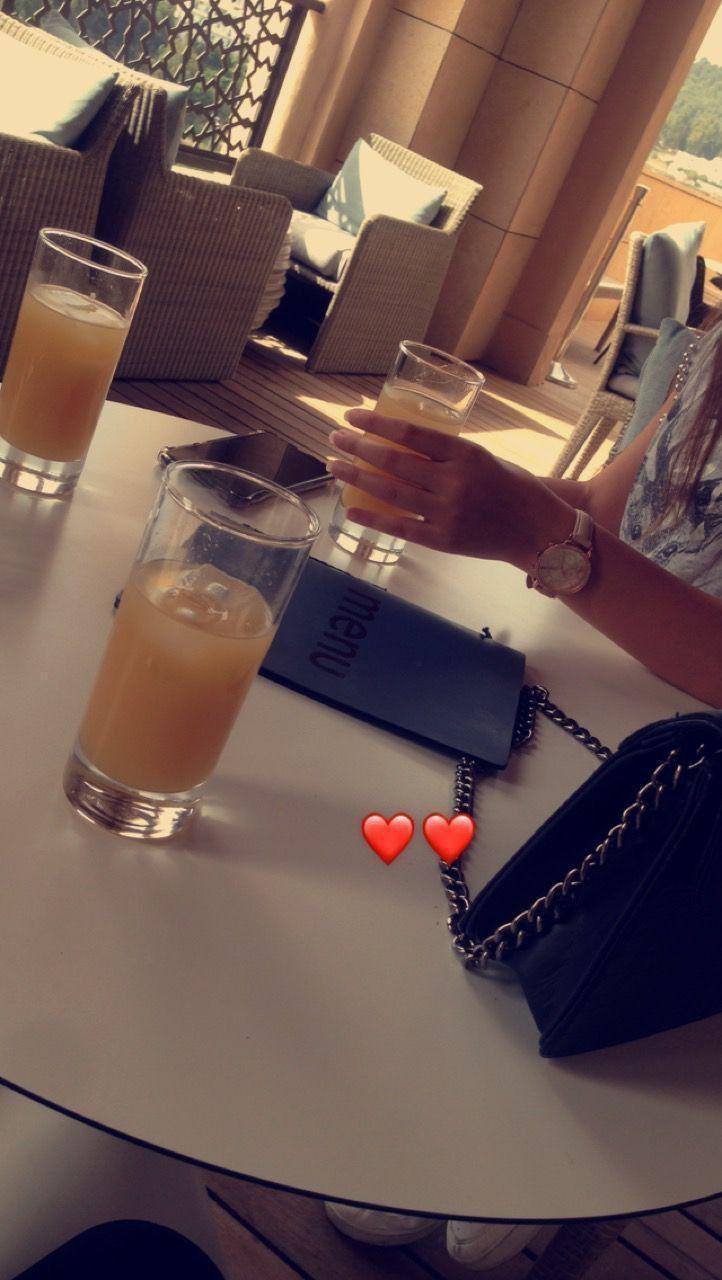glass-normal: (58, 458, 319, 838), (1, 224, 149, 493), (335, 339, 481, 565)
